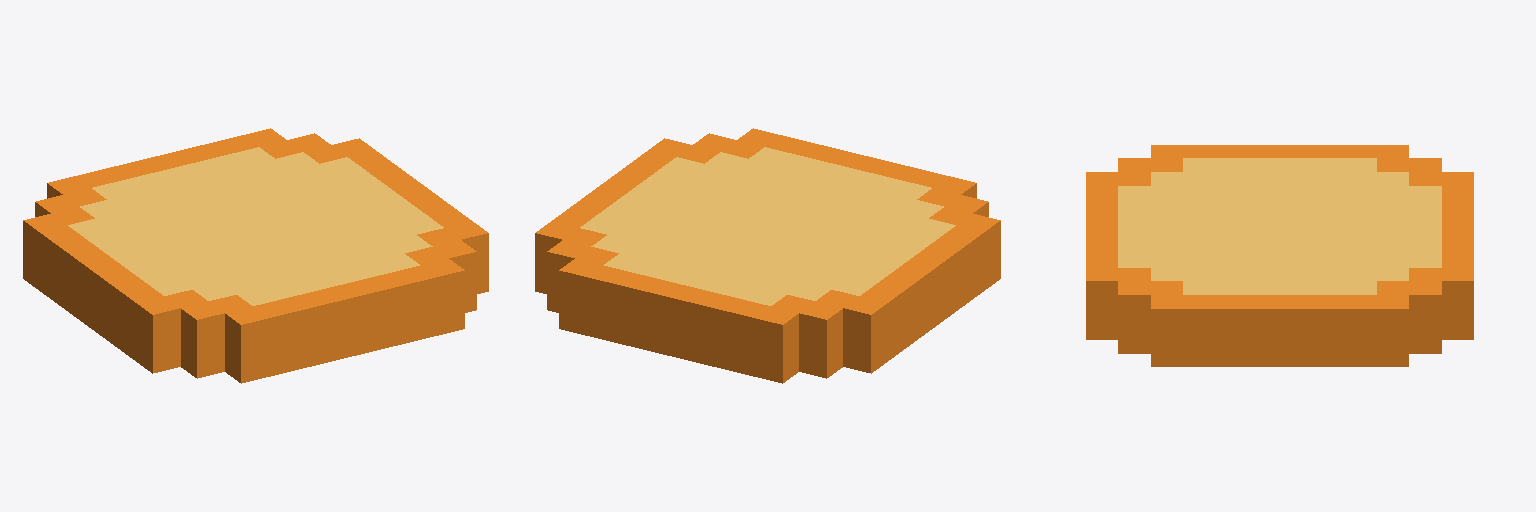
The picture shows the model from 3 angles: view 1: azimuth 30°, elevation 25°; view 2: azimuth 150°, elevation 25°; view 3: azimuth 270°, elevation 25°; orthographic projection.
Parts seen in each view (by area): view 1: object 1; view 2: object 1; view 3: object 1.
Boxes of the visible parts, box(x1,y1,x2,y2) form: object 1: box(23, 128, 488, 383); object 1: box(535, 128, 1000, 383); object 1: box(1086, 145, 1473, 366).
Size of the model in its own units: 1.2 by 0.2 by 1.2.
1 materials, 1 textured.